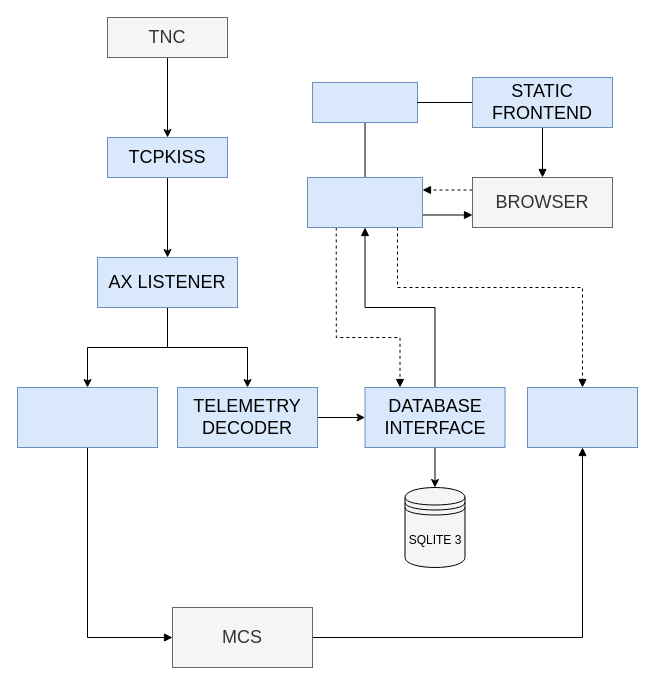
Image size: 655x685. Some labels were removed from this diagram. The centre of each missing label's shape, as x and y in pixels:
API: (x=364, y=202)
CONF UPDATER: (x=582, y=417)
FLASK: (x=365, y=102)
SIDS RELAY: (x=87, y=417)
